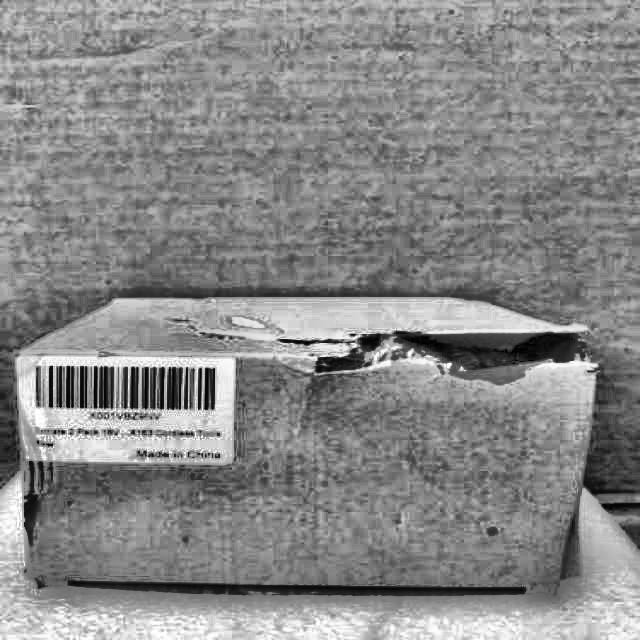box: (8, 290, 608, 605)
hole: (288, 326, 588, 401)
